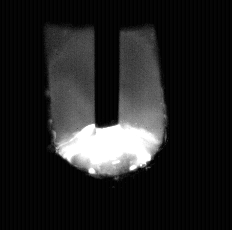arame: (95, 0, 121, 128)
poca: (56, 0, 161, 230)
